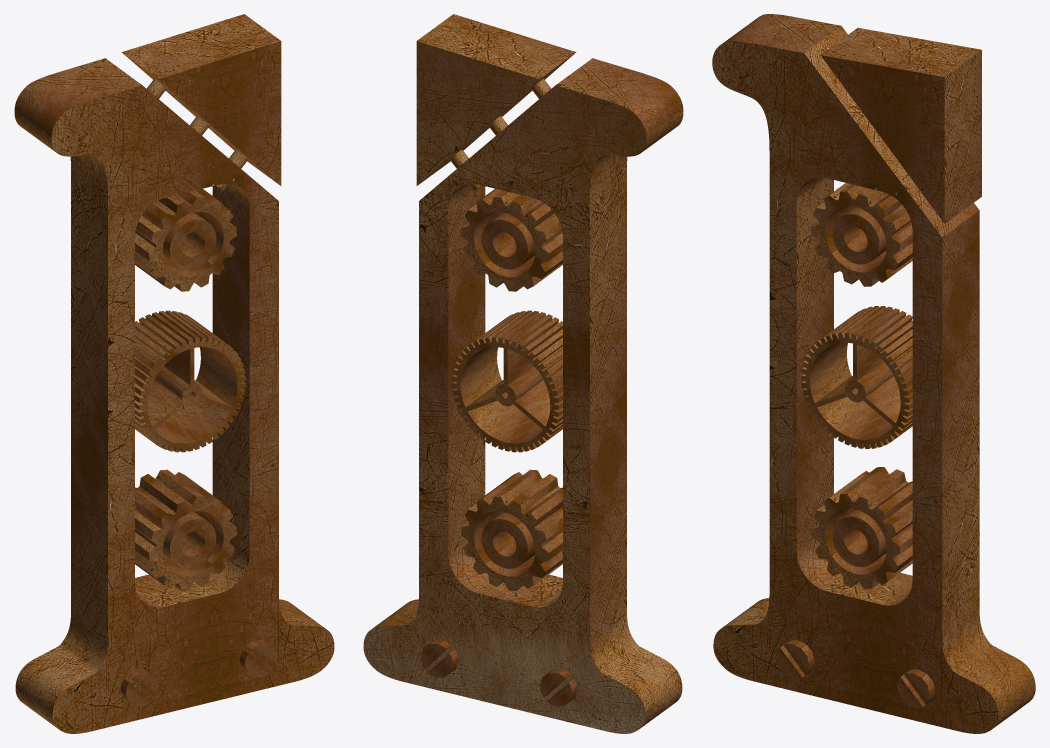
The picture shows the model from 3 angles, left to right: view 1: azimuth 30°, elevation 25°; view 2: azimuth 150°, elevation 25°; view 3: azimuth 330°, elevation 25°; orthographic projection.
Visible parts, largest first — view 1: 051, Cogwheel_432, Cogwheel_430, Cogwheel_431, Screw_882, Screw_883; view 2: 051, Cogwheel_432, Cogwheel_430, Cogwheel_431, Screw_882, Screw_883; view 3: 051, Cogwheel_432, Cogwheel_430, Cogwheel_431, Screw_882, Screw_883.
Part boxes in pixels (x1,y1,x2,y2): 051: [14, 14, 334, 733]; Cogwheel_432: [135, 310, 245, 452]; Cogwheel_430: [135, 469, 236, 590]; Cogwheel_431: [135, 188, 236, 291]; Screw_882: [120, 669, 157, 706]; Screw_883: [239, 640, 277, 677]; 051: [363, 14, 683, 733]; Cogwheel_432: [452, 310, 562, 452]; Cogwheel_430: [461, 469, 562, 590]; Cogwheel_431: [461, 188, 562, 291]; Screw_882: [540, 669, 577, 706]; Screw_883: [420, 640, 458, 677]; 051: [712, 14, 1035, 733]; Cogwheel_432: [801, 306, 912, 448]; Cogwheel_430: [811, 467, 912, 589]; Cogwheel_431: [811, 183, 912, 286]; Screw_882: [777, 640, 814, 678]; Screw_883: [897, 669, 934, 707].
Bounding box in the file's own units: 44.2 × 96.1 × 12.89.
1 material, 1 textured.
